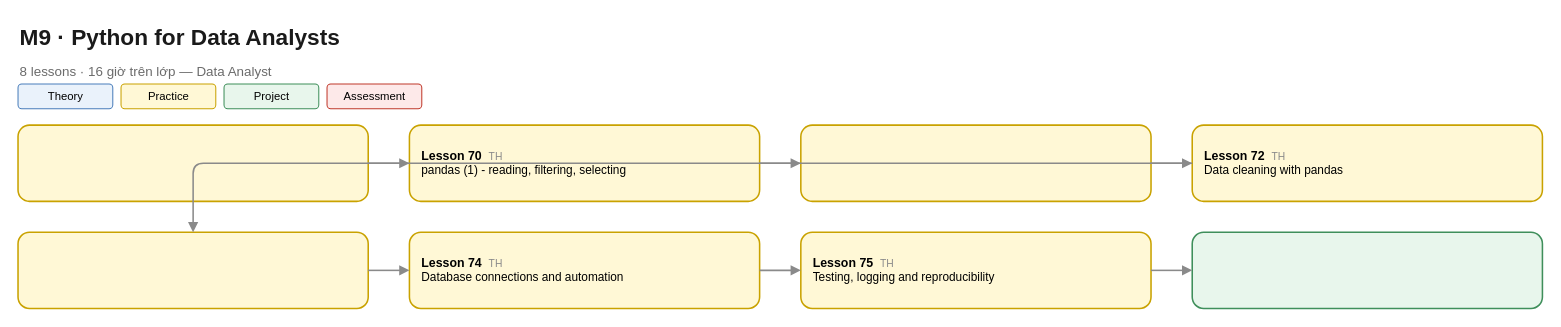
This 1561x327 diagram has some shape labels left out. Each missing label, with the box of its shape:
Lesson 69 TH Environment, Jupyter and Python basics: (17, 124, 369, 202)
Lesson 71 TH pandas (2) - grouping, joining, pivoting: (800, 124, 1151, 202)
Lesson 73 TH Visualization with Python: (17, 231, 369, 309)
Lesson 76 DA Python project: (1191, 231, 1543, 309)
